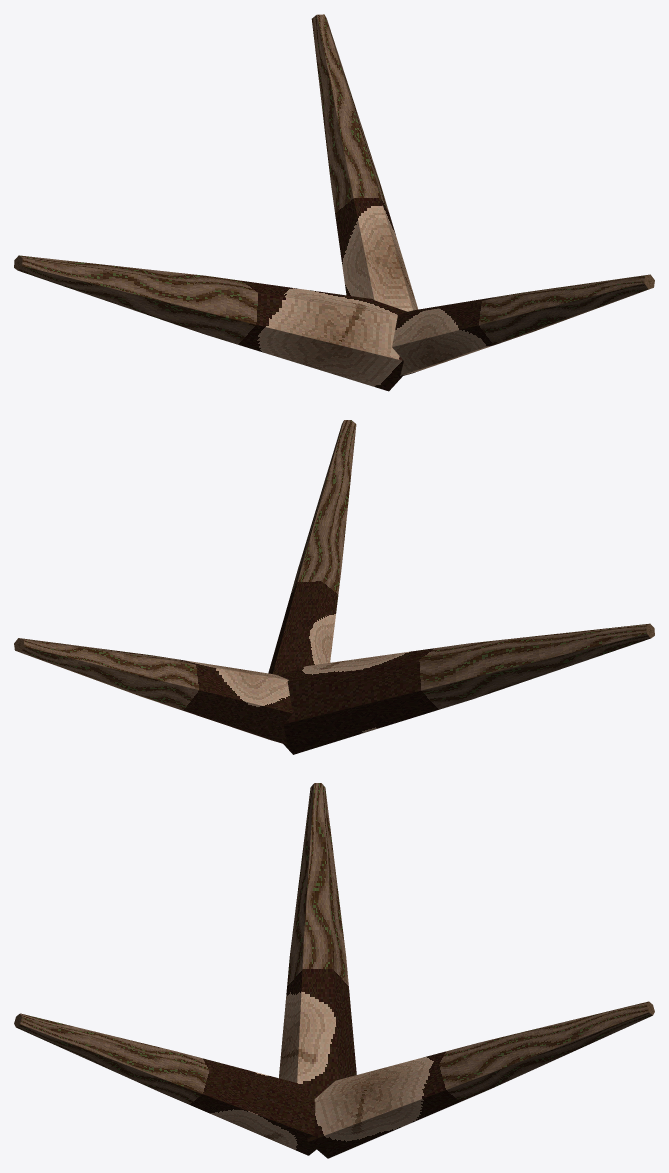
The model's file is raiz_de_caverna.glb.
3 renders of one model, top to bottom at view 1: azimuth 30°, elevation 25°; view 2: azimuth 150°, elevation 25°; view 3: azimuth 270°, elevation 25°, orthographic. The views are drawn at different scales.
Parts seen in each view (by area): view 1: raiz_de_caverna; view 2: raiz_de_caverna; view 3: raiz_de_caverna.
Part boxes in pixels (x1=…): raiz_de_caverna: x1=14, y1=14, x2=654, y2=391; raiz_de_caverna: x1=14, y1=420, x2=654, y2=754; raiz_de_caverna: x1=14, y1=783, x2=654, y2=1158.
Size of the model in its own units: 0.857 by 0.3589 by 1.04.
1 material, 1 textured.
